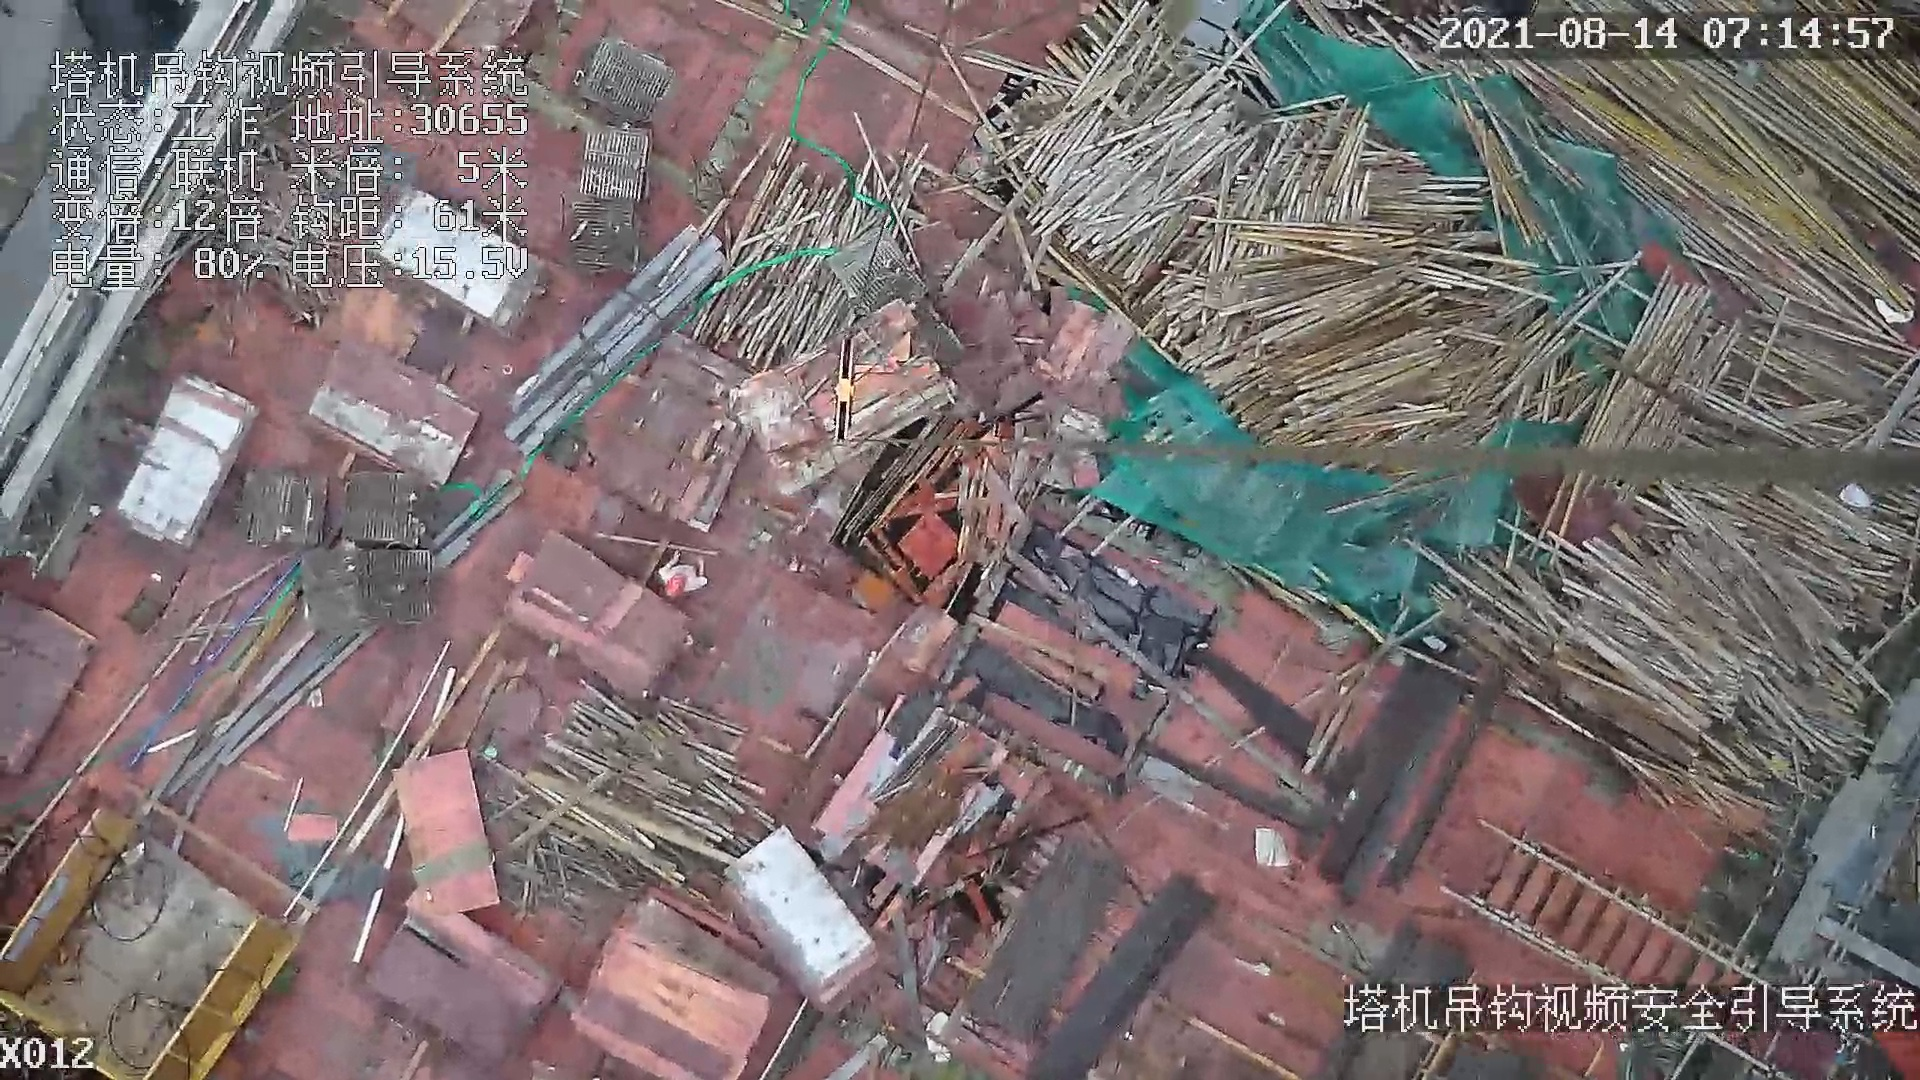helmet: (663, 571, 691, 601)
hook: (820, 332, 860, 440)
person: (649, 548, 710, 615)
